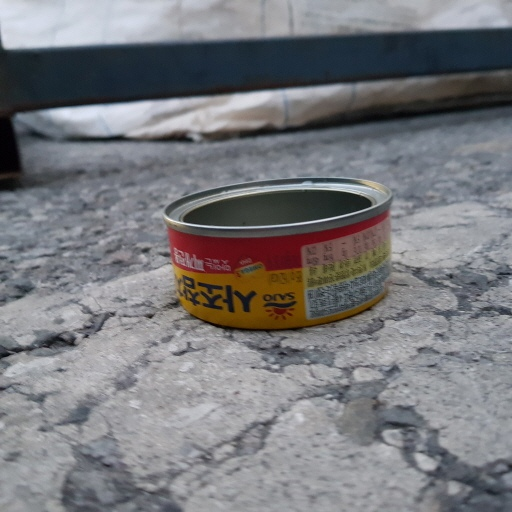Metal_1: (163, 172, 394, 327)
